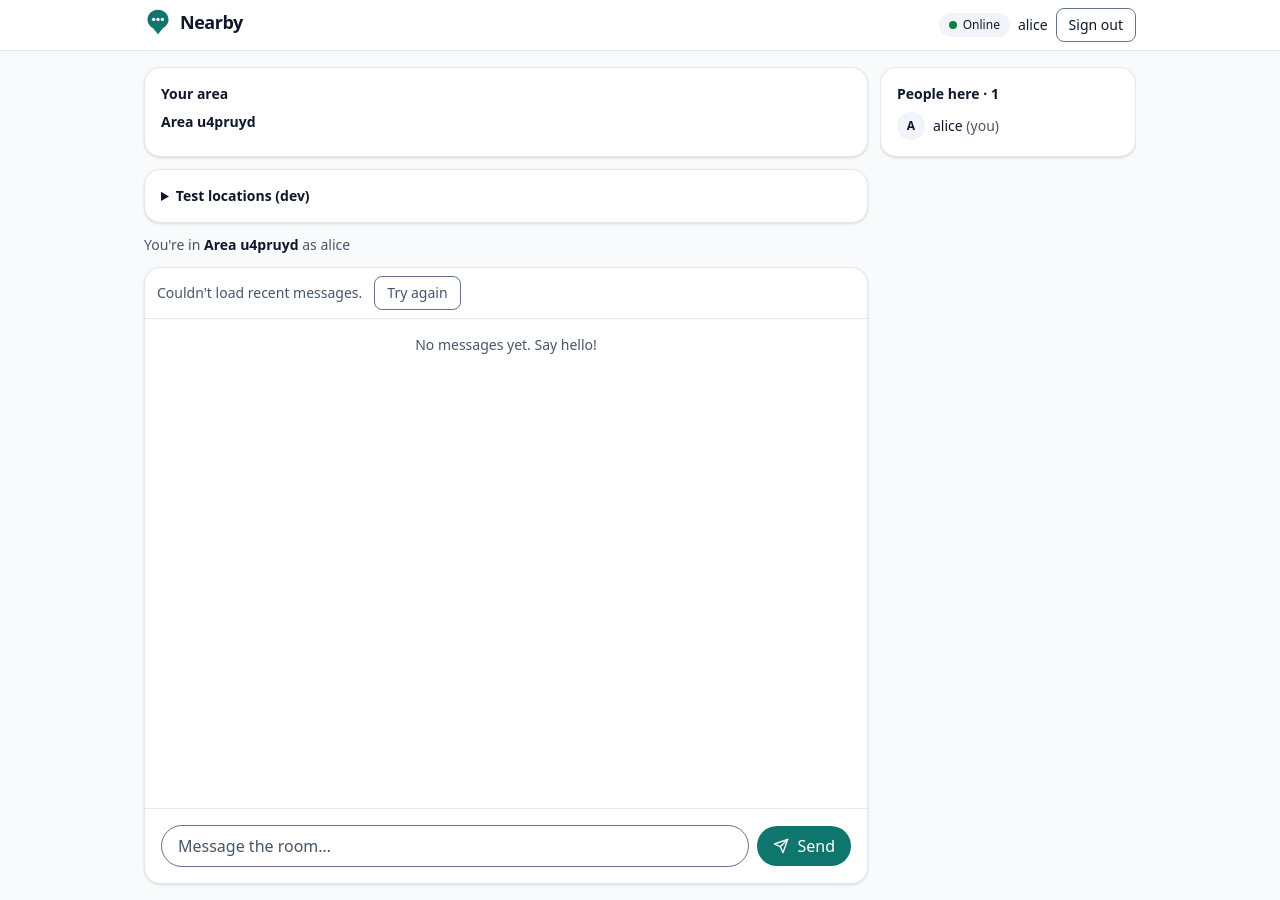
Test: chat flow › room history › shows a retry when history cannot load and asks again on "Try again"
The width and height of the screenshot is (1280, 900).
Expected: the button "Sign out" is shown, [1056,8,1136,42]
Expected: the text "Couldn't load recent messages." is shown, [157,283,362,303]
Click the button "Try again": coordinates (417, 293) [374,276,460,310]
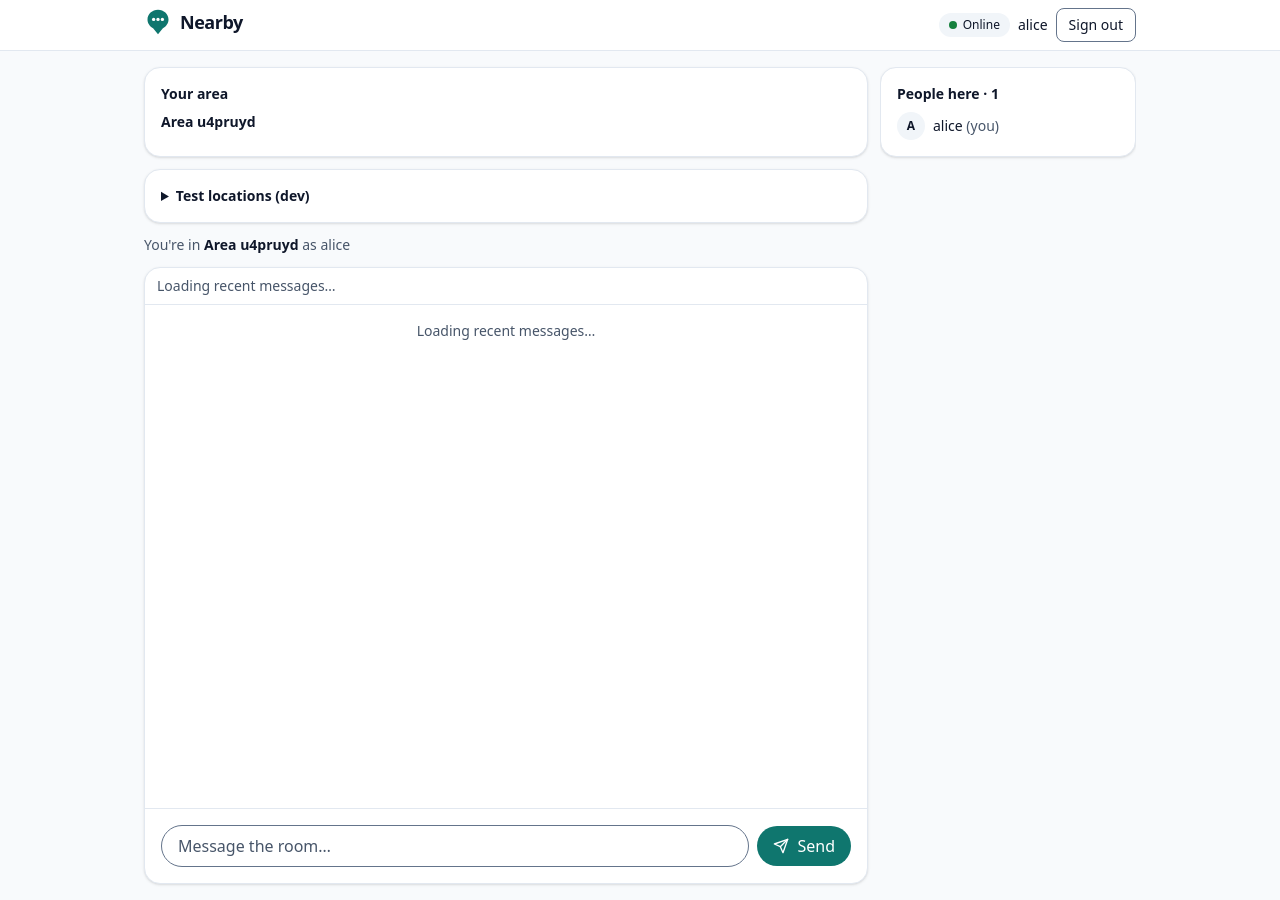
Now the text "Couldn't load recent messages." is gone
Now the text "Loading recent messages…" is shown, box [145,268,867,305]
